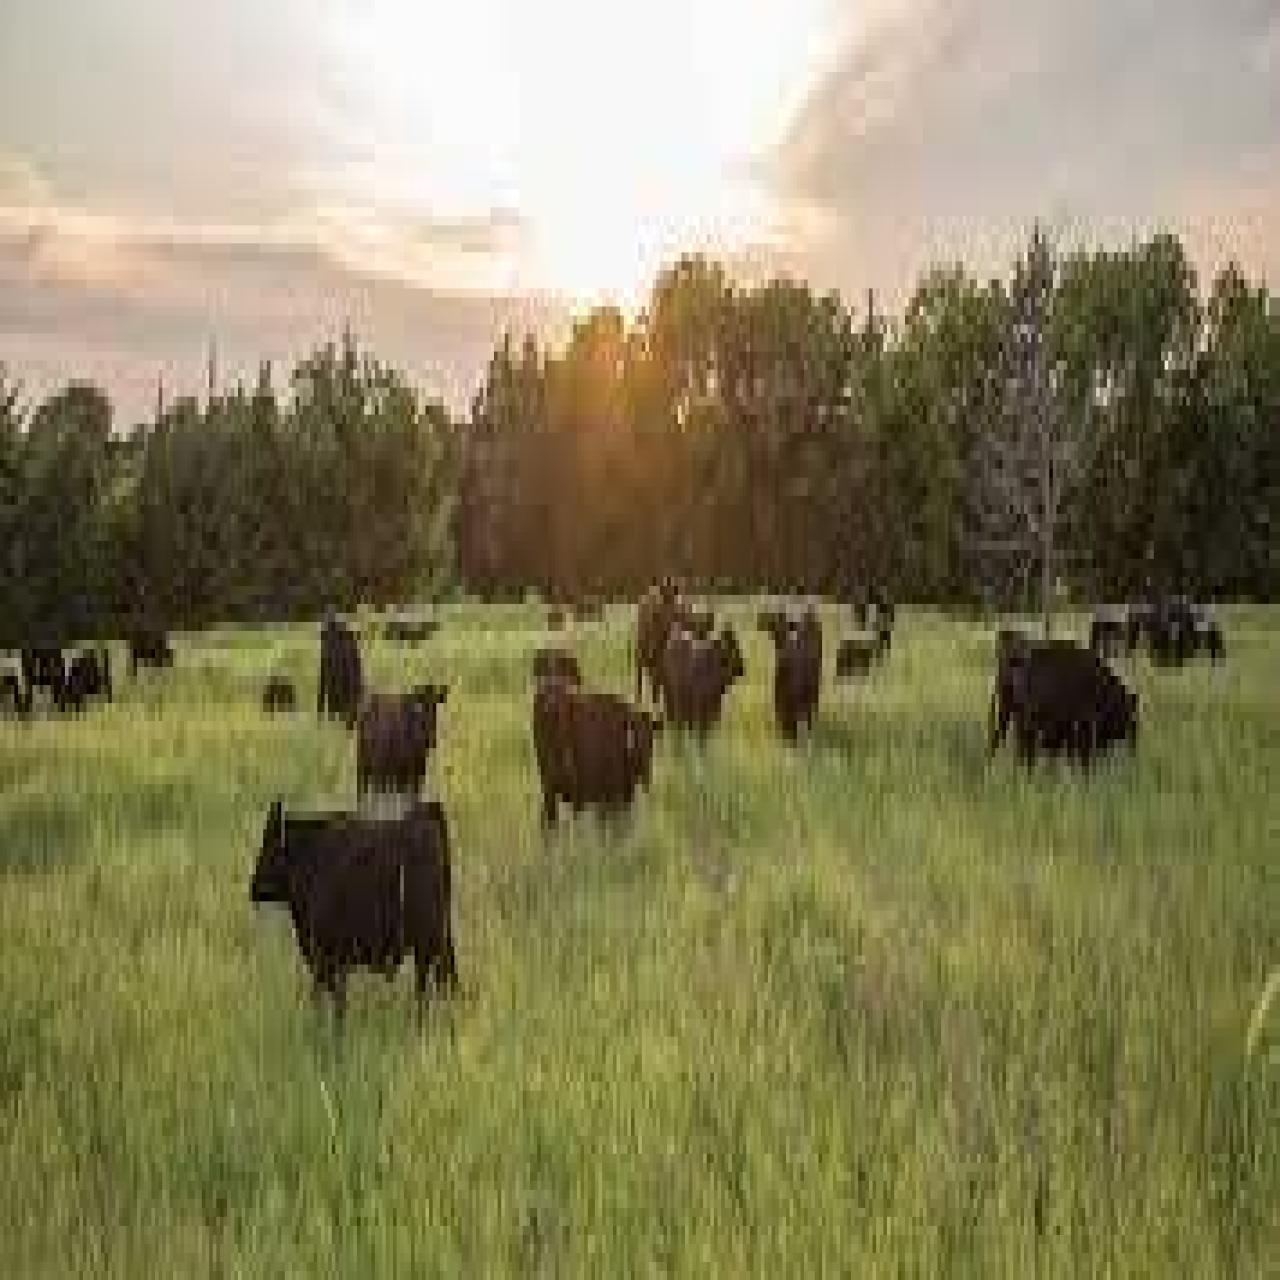cow: (245, 802, 454, 1019), (531, 689, 661, 852), (1005, 635, 1138, 789), (358, 694, 447, 811), (670, 622, 747, 738), (768, 613, 822, 748)
